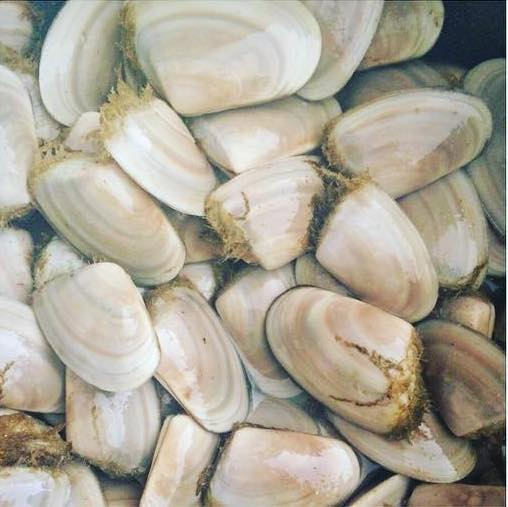tuatua: (261, 281, 428, 445), (119, 1, 327, 120), (28, 150, 187, 286), (319, 87, 496, 198), (313, 177, 438, 325), (30, 260, 162, 392), (145, 276, 252, 437), (100, 84, 221, 220), (204, 156, 334, 267), (197, 422, 365, 507), (190, 92, 344, 176), (59, 365, 166, 484), (413, 312, 508, 442), (216, 262, 302, 397), (395, 168, 490, 290), (39, 1, 120, 133), (141, 410, 215, 507)
